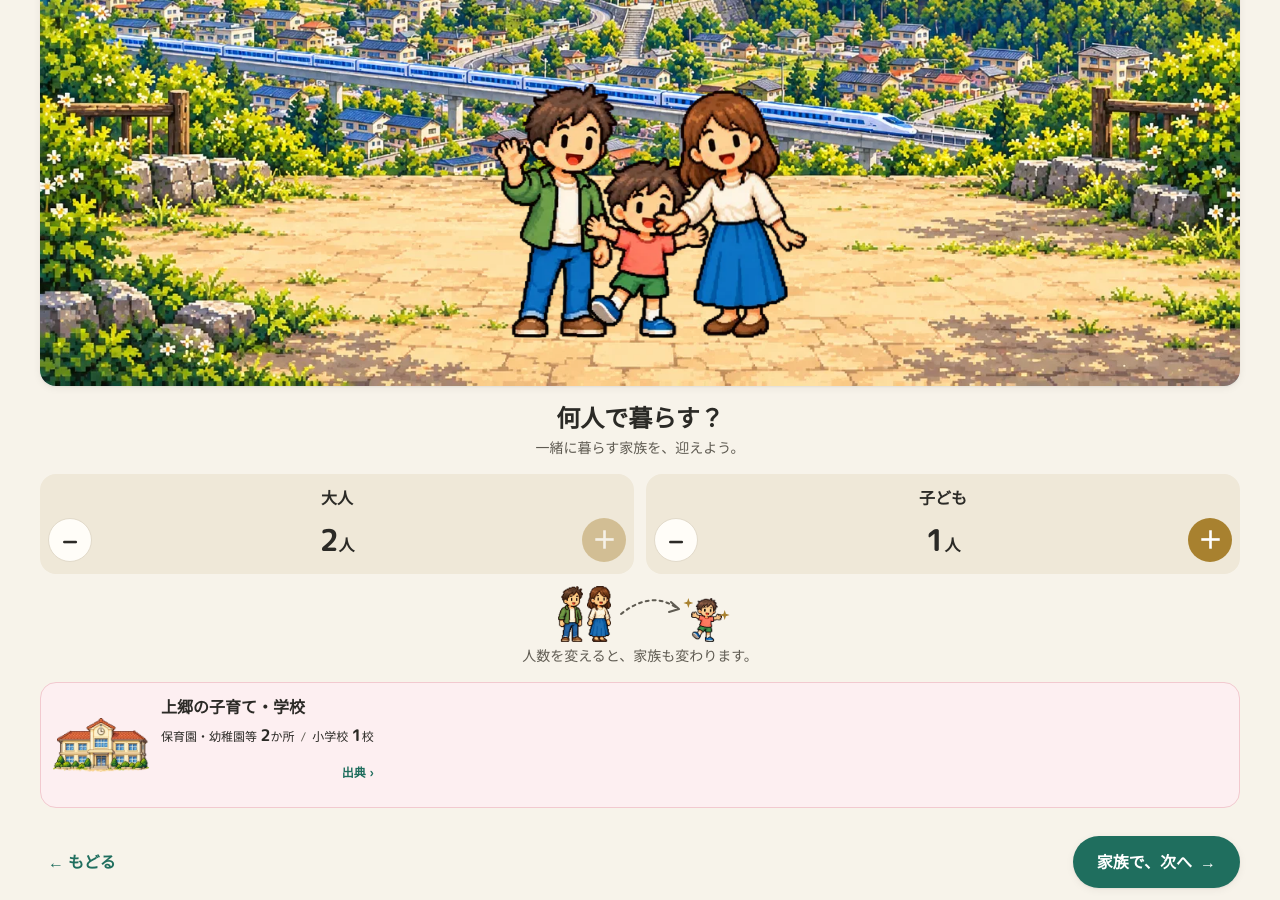
it: ErabuFlow：質問の進行 › 大人1人のときだけ、お母さん・お父さんを選べる（ひとり親の家族）
(page scrolled)
Check: the button "お父さん" is not shown
Click the button named "大人を1人減らす" at coordinates (70, 540), box left=48, top=518, right=92, bottom=562
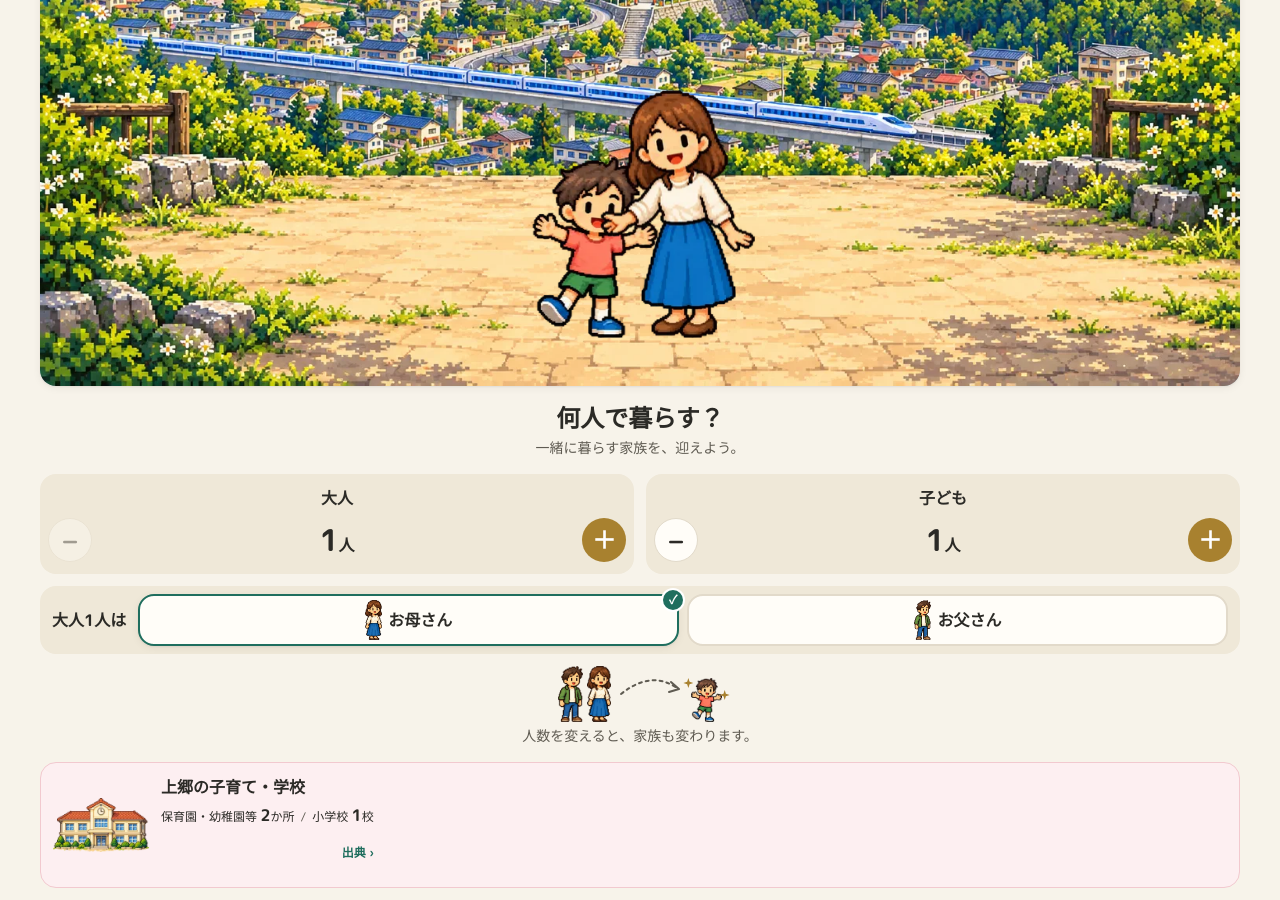
Click the button "お父さん" at coordinates (958, 620), box left=687, top=594, right=1228, bottom=646
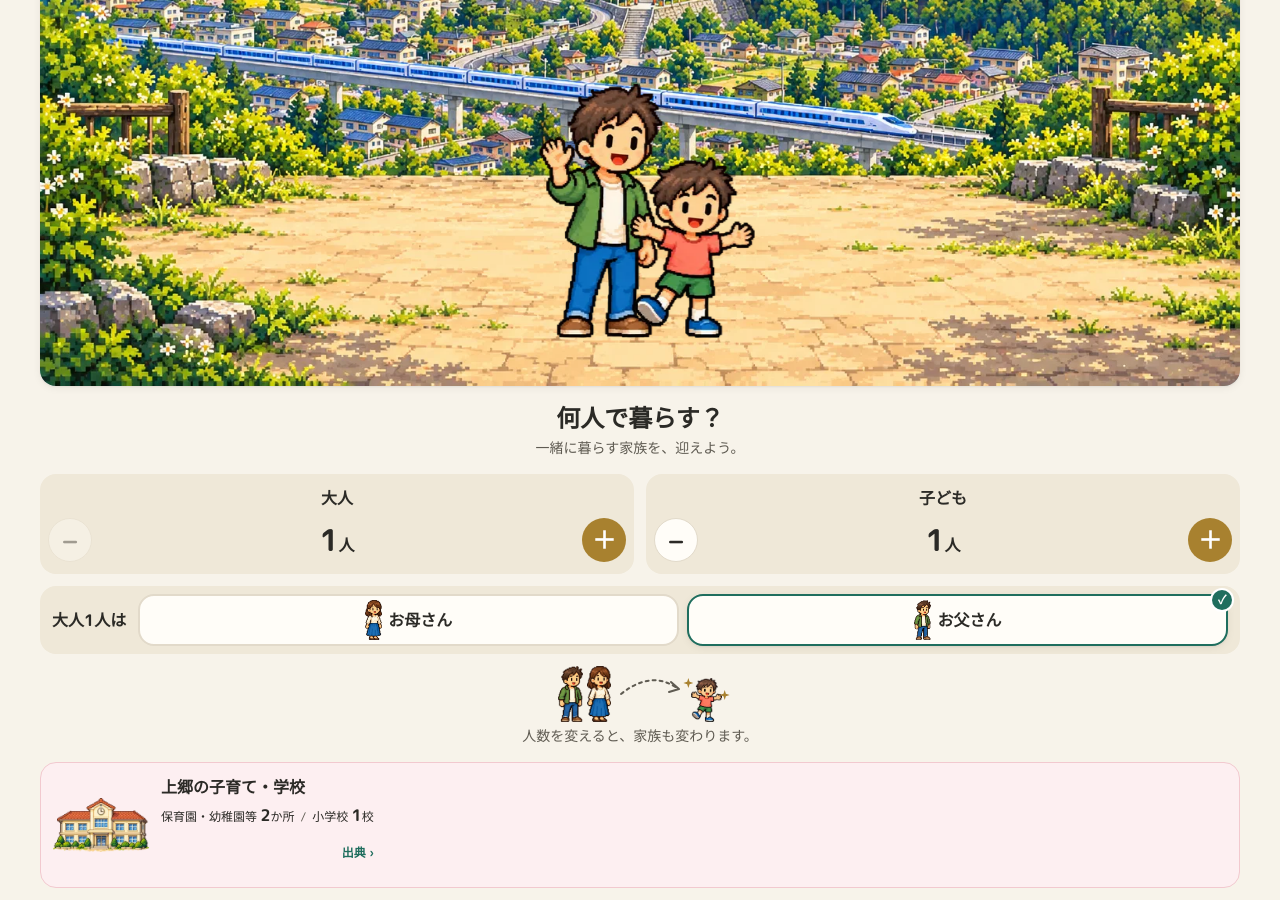
Check: the button "✓ お父さん" is pressed, box left=687, top=594, right=1228, bottom=646
Click the button named "大人を1人増やす" at coordinates (604, 540), box left=582, top=518, right=626, bottom=562
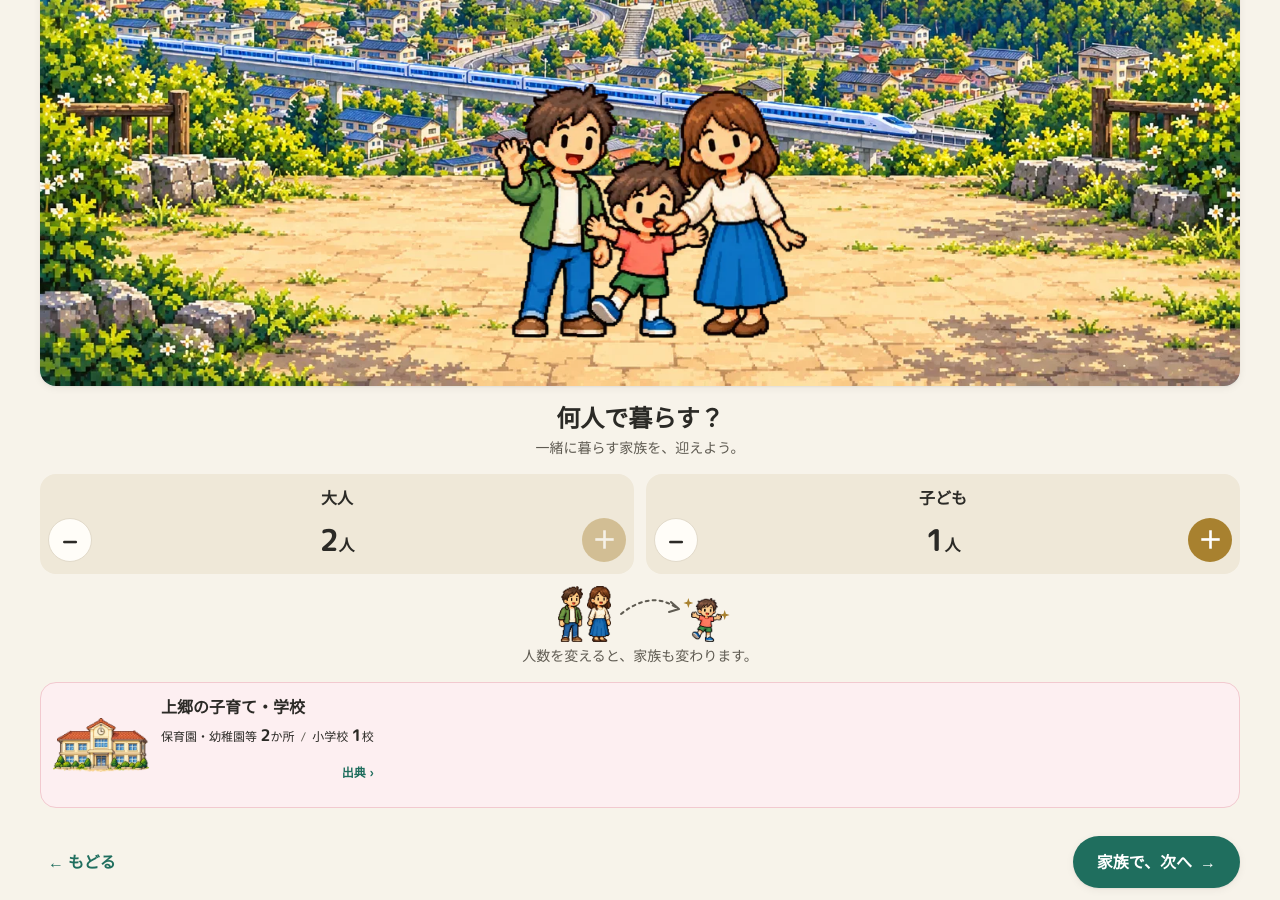
Check: the button "お父さん" is gone
